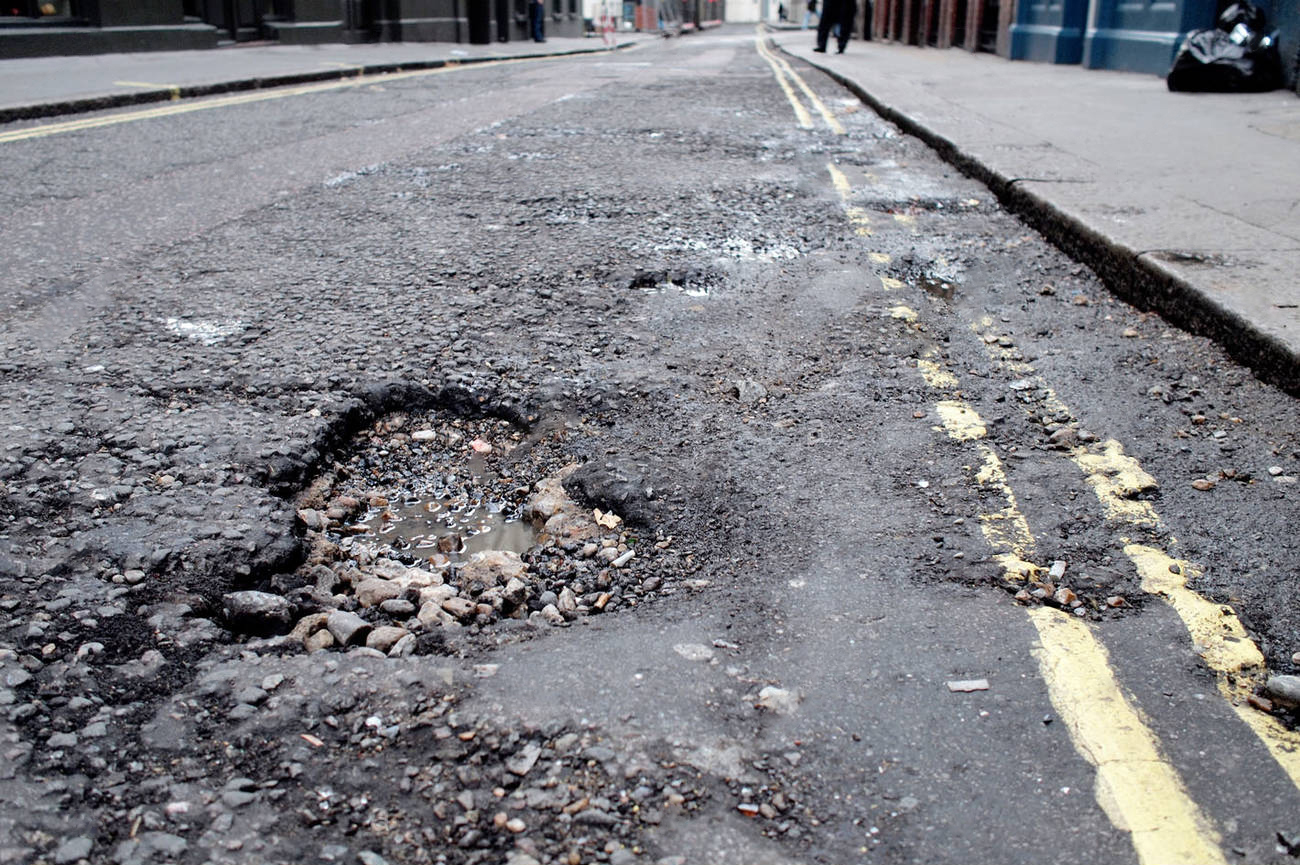pothole: (253, 336, 678, 656), (623, 95, 869, 184), (618, 237, 754, 333), (856, 171, 1019, 234)
